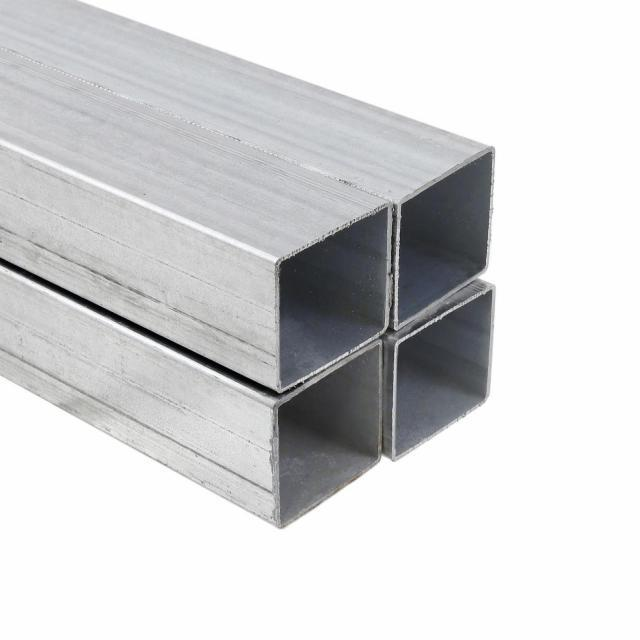pipe: (275, 200, 394, 395), (276, 338, 384, 533), (393, 144, 501, 333), (391, 285, 498, 468)
